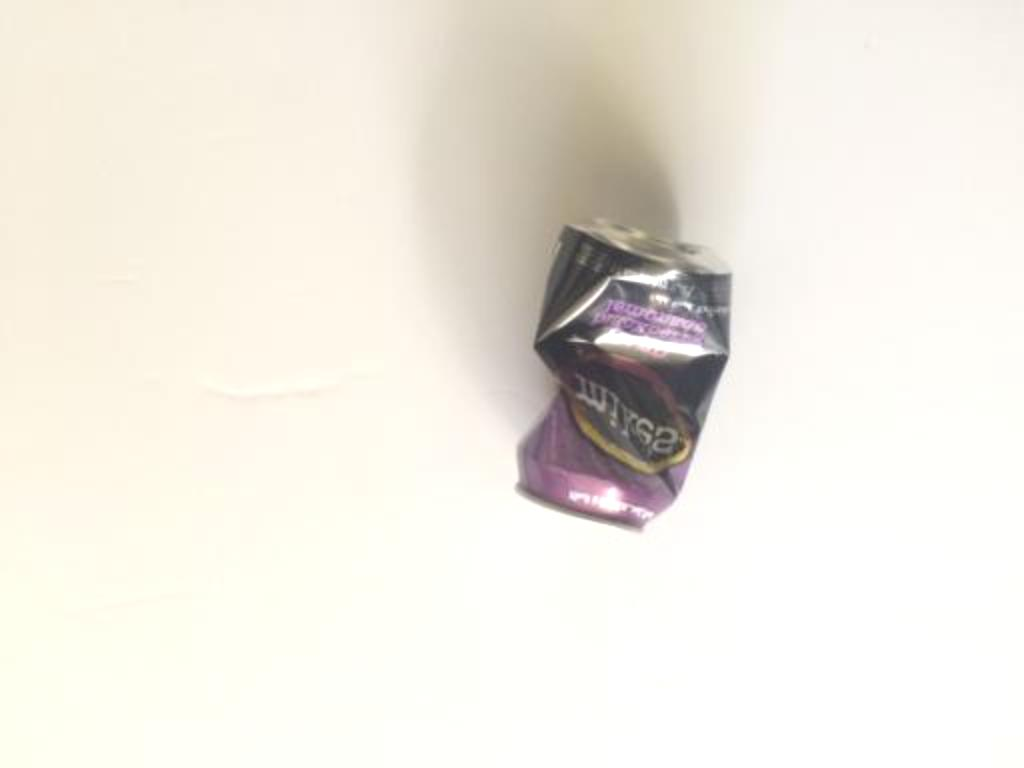garbage: (430, 202, 782, 546)
